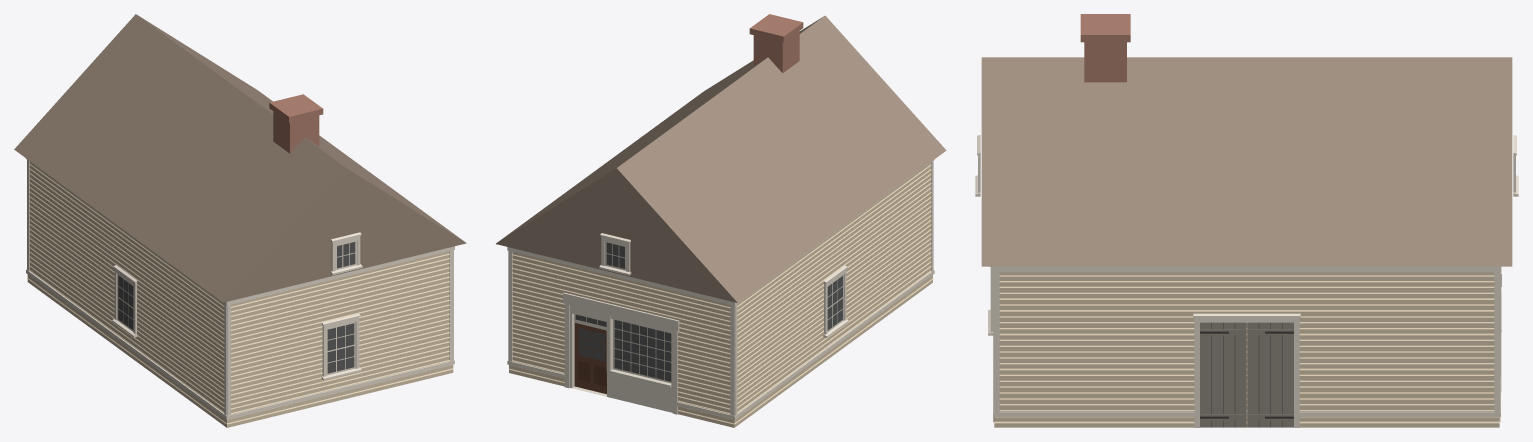
The model's file is recon_1835_core_c2_001__inferred_1835.glb.
The picture shows the model from 3 angles, left to right: view 1: azimuth 30°, elevation 25°; view 2: azimuth 150°, elevation 25°; view 3: azimuth 270°, elevation 25°; orthographic projection. The views are drawn at different scales.
Parts seen in each view (by area): view 1: recon_1835_core_c2_001__inferred_1835; view 2: recon_1835_core_c2_001__inferred_1835; view 3: recon_1835_core_c2_001__inferred_1835.
Part boxes in pixels (left/top/right/bottom): recon_1835_core_c2_001__inferred_1835: left=14, top=14, right=466, bottom=427; recon_1835_core_c2_001__inferred_1835: left=496, top=14, right=946, bottom=427; recon_1835_core_c2_001__inferred_1835: left=975, top=14, right=1518, bottom=427.
Size of the model in its own units: 7 by 7.21 by 10.67.
